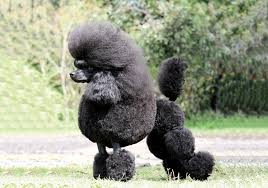Poodle: (48, 23, 225, 185)
